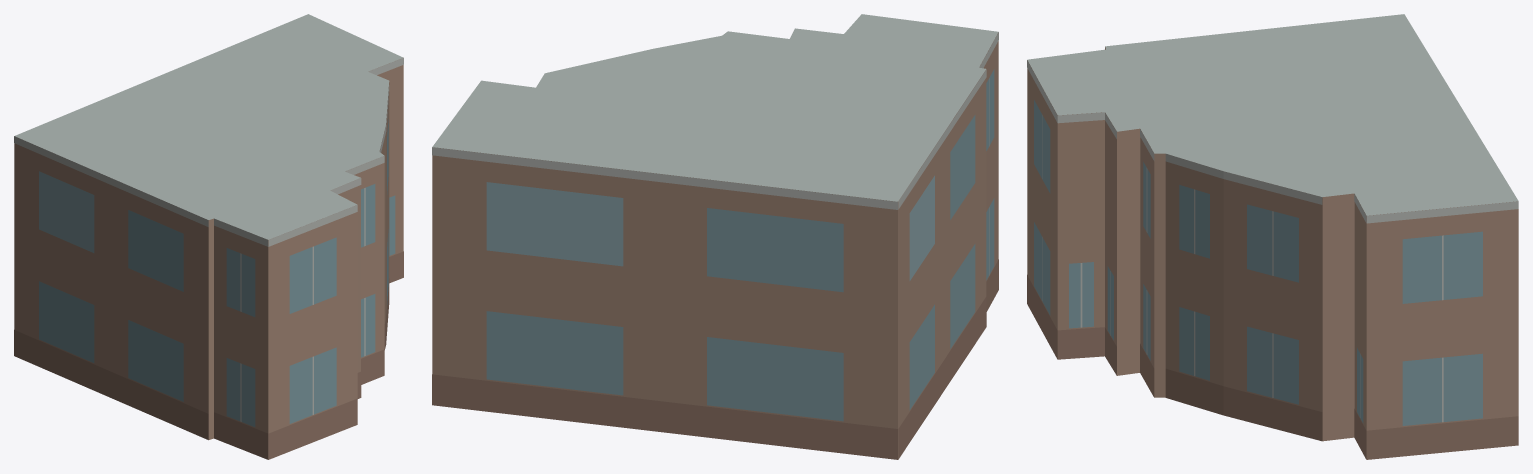
File: survey-upis-32607753.glb
The picture shows the model from 3 angles, left to right: view 1: azimuth 30°, elevation 25°; view 2: azimuth 150°, elevation 25°; view 3: azimuth 270°, elevation 25°; orthographic projection. The views are drawn at different scales.
Parts seen in each view (by area): view 1: survey-upis-32607753.tmp; view 2: survey-upis-32607753.tmp; view 3: survey-upis-32607753.tmp.
Part boxes in pixels (left/top/right/bottom): survey-upis-32607753.tmp: left=14, top=14, right=403, bottom=459; survey-upis-32607753.tmp: left=432, top=14, right=998, bottom=459; survey-upis-32607753.tmp: left=1027, top=14, right=1518, bottom=459.
Bounding box in the file's own units: 13.47 × 7.6 × 13.88.
